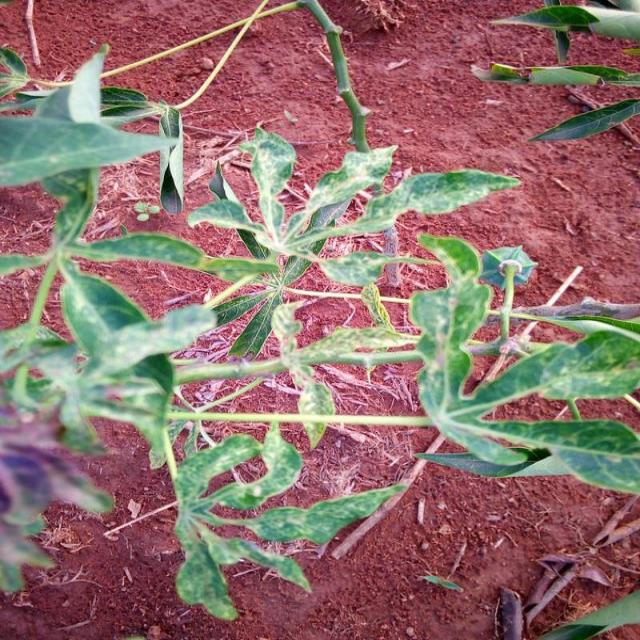cassava leaf: (0, 24, 638, 623), (408, 230, 638, 496)
